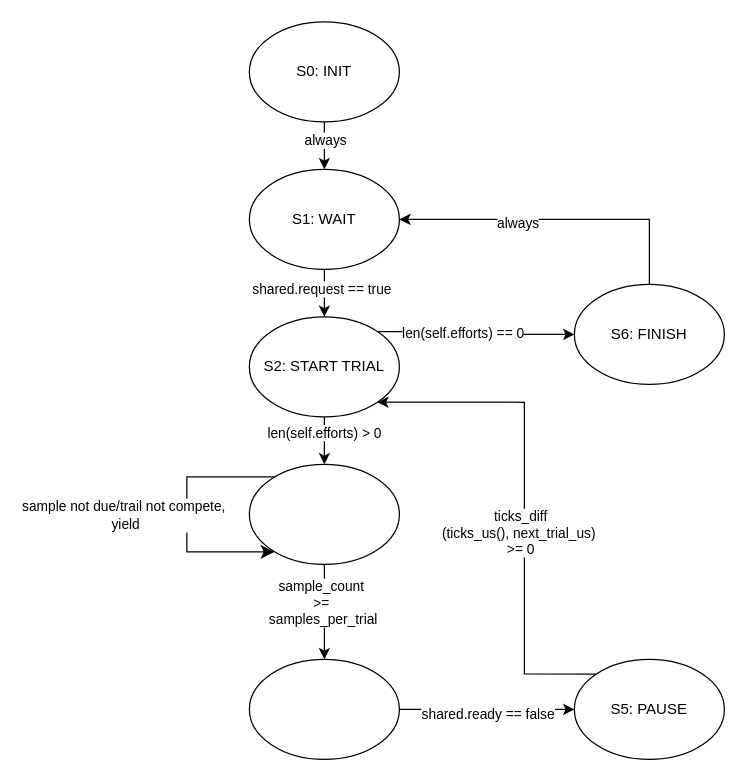
The diagram is 746 pixels wide and 781 high, and some of its shapes have lost their labels. The shapes that lost their labels are listed below. From the top down, each one's centre as x and y in pixels, then its label:
the point at 323,513: S3: SAMPLE
the point at 323,708: S4: WAIT PRINT
